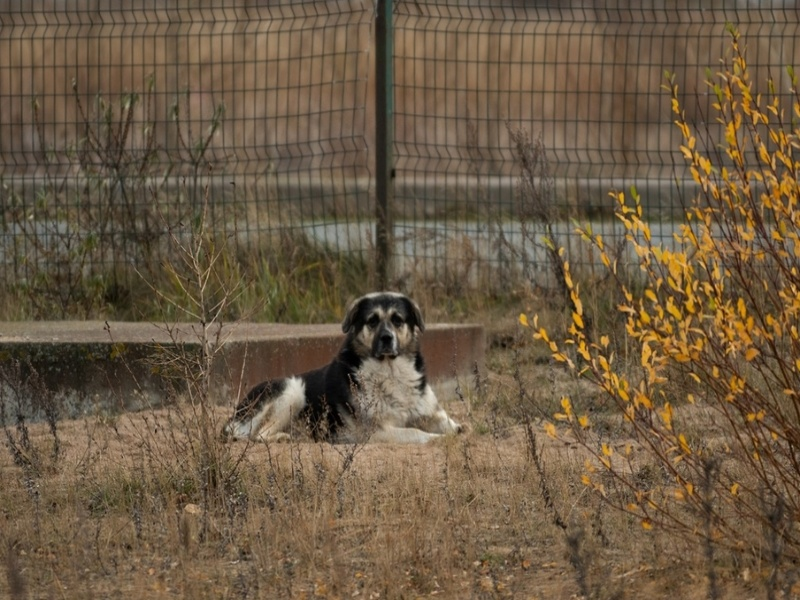dog: (209, 283, 473, 451)
